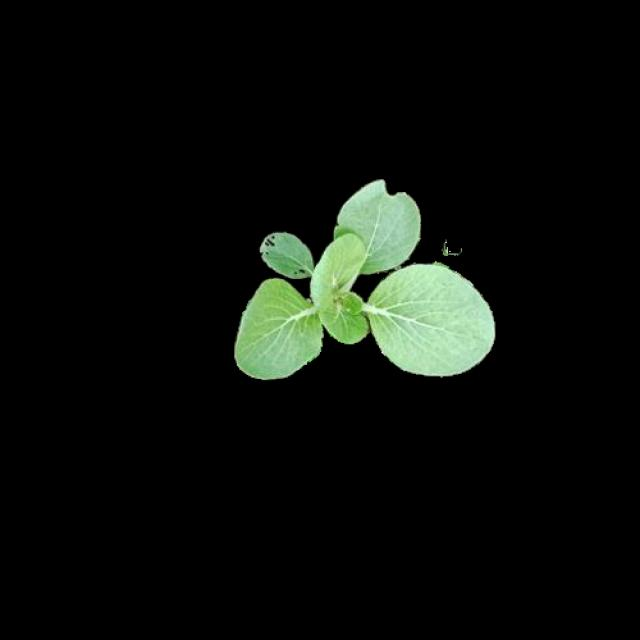not-mature: (234, 179, 498, 379)
unhealthy: (339, 179, 419, 264), (257, 232, 315, 280)
